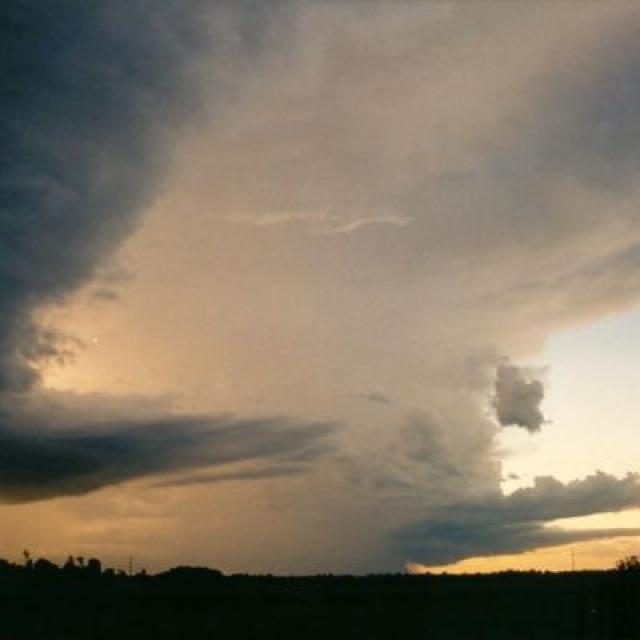Cb: (1, 1, 640, 398)
